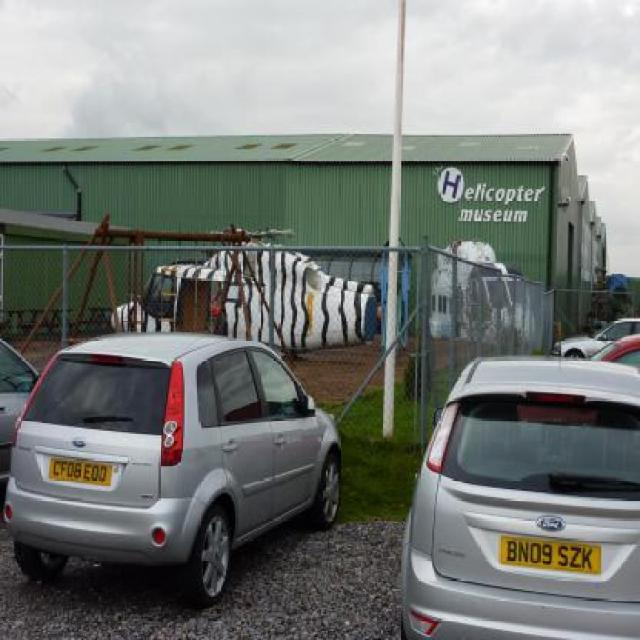License-Plates: (492, 530, 626, 574), (31, 451, 145, 491)
